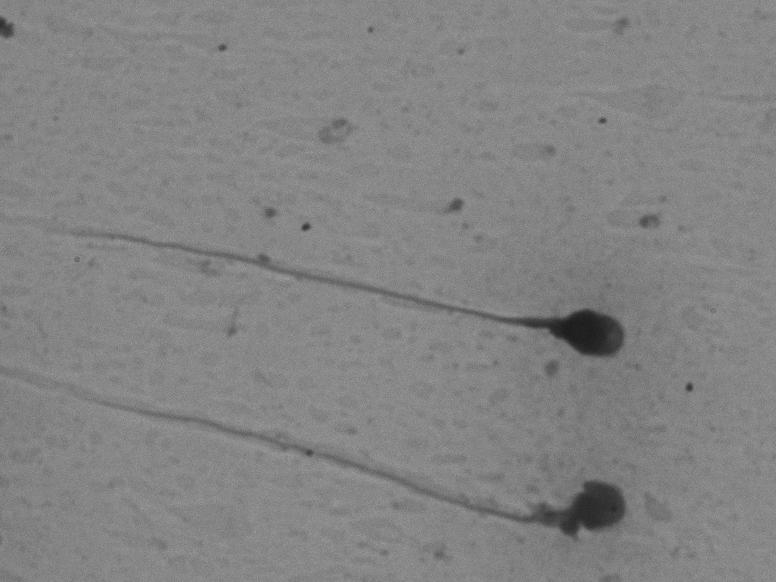Abnormal: (36, 179, 659, 381), (21, 361, 650, 560)
